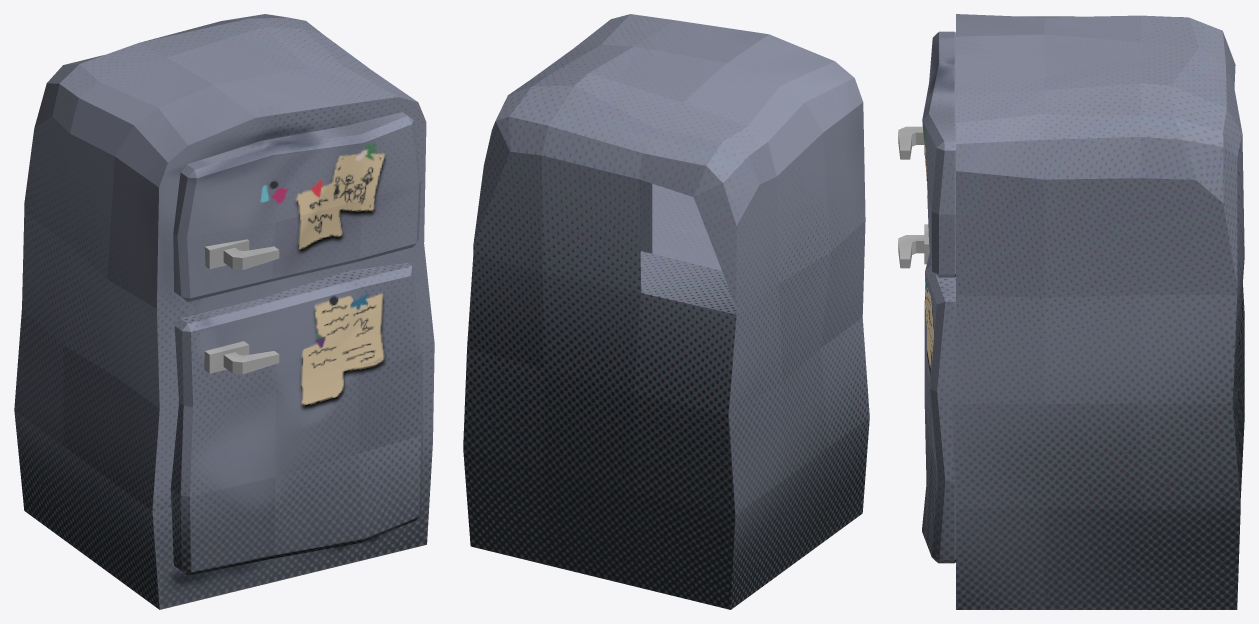
Rendered from Fridge_v03.obj.
The picture shows the model from 3 angles, left to right: view 1: azimuth 30°, elevation 25°; view 2: azimuth 150°, elevation 25°; view 3: azimuth 270°, elevation 25°; orthographic projection. The views are drawn at different scales.
Parts seen in each view (by area): view 1: Fridge; view 2: Fridge; view 3: Fridge.
Boxes of the visible parts, bbox=[...] form: Fridge: bbox=[14, 14, 434, 609]; Fridge: bbox=[463, 14, 869, 609]; Fridge: bbox=[898, 14, 1244, 609].
Size of the model in its own units: 0.9935 by 1.56 by 1.
1 material, 1 textured.
